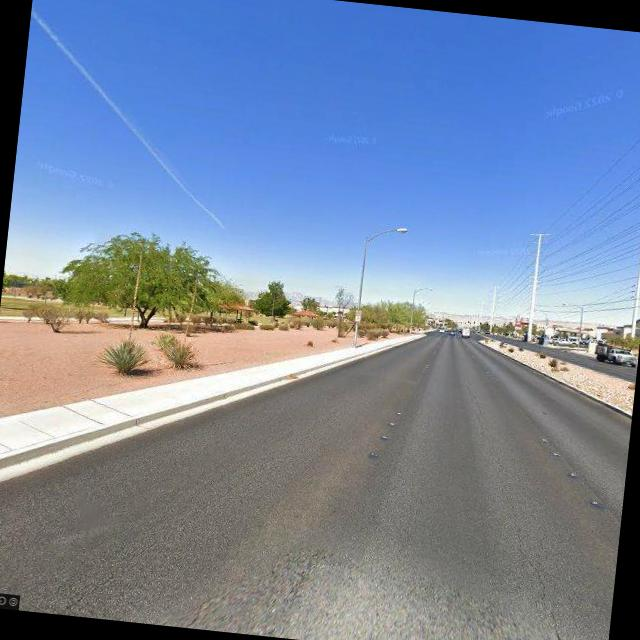pothole: (493, 497, 581, 640)
